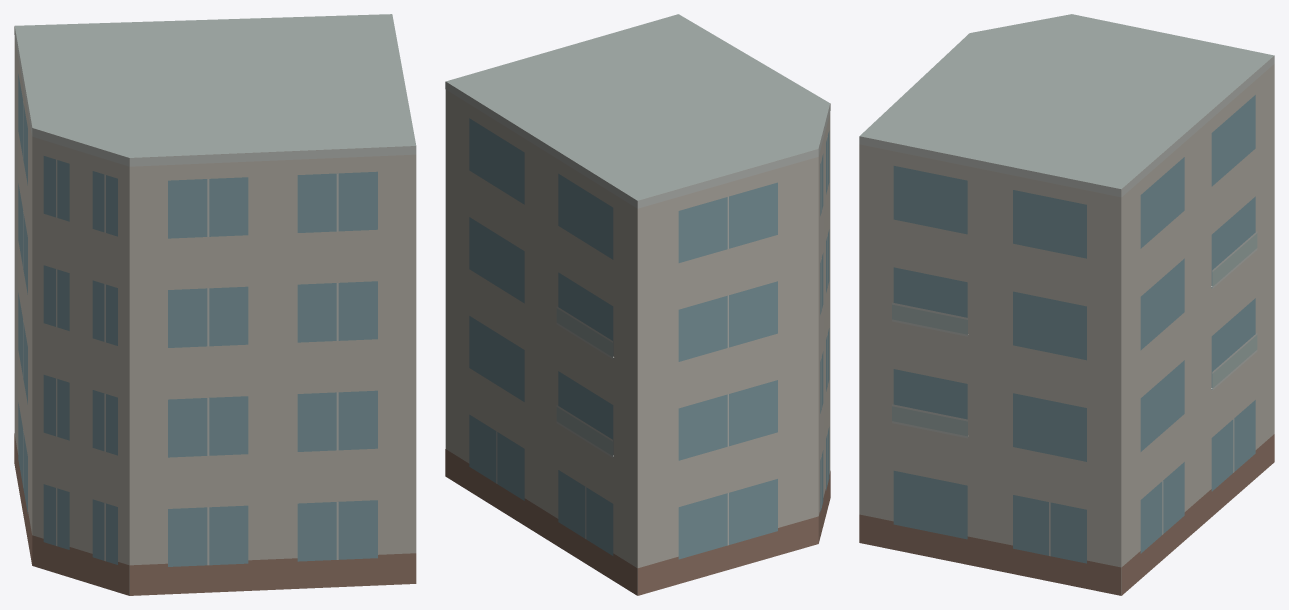
The model's file is residential-c5c21780-c5af-49cb-b070-bb32a8f91612.glb.
3 views of the same model, side by side, from view 1: azimuth 30°, elevation 25°; view 2: azimuth 150°, elevation 25°; view 3: azimuth 270°, elevation 25° (orthographic). The views are drawn at different scales.
Parts seen in each view (by area): view 1: residential-c5c21780-c5af-49cb-b070-bb32a8f91612.tmp; view 2: residential-c5c21780-c5af-49cb-b070-bb32a8f91612.tmp; view 3: residential-c5c21780-c5af-49cb-b070-bb32a8f91612.tmp.
Boxes of the visible parts, x1,y1,x2,y2 form: residential-c5c21780-c5af-49cb-b070-bb32a8f91612.tmp: [14, 14, 416, 595]; residential-c5c21780-c5af-49cb-b070-bb32a8f91612.tmp: [445, 14, 830, 595]; residential-c5c21780-c5af-49cb-b070-bb32a8f91612.tmp: [859, 14, 1274, 595].
Bounding box in the file's own units: 11.28 × 12.2 × 11.3.
